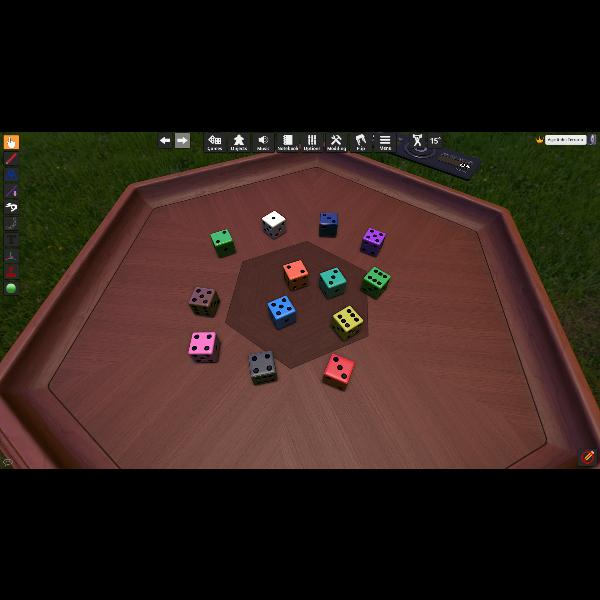d6: (322, 352, 354, 390), (332, 306, 363, 340), (188, 330, 220, 362), (248, 350, 278, 384), (268, 294, 296, 330), (360, 267, 390, 299), (189, 287, 219, 317), (319, 267, 345, 299), (282, 260, 308, 290), (359, 227, 385, 257), (210, 228, 236, 256), (262, 210, 286, 238), (319, 212, 337, 238)
